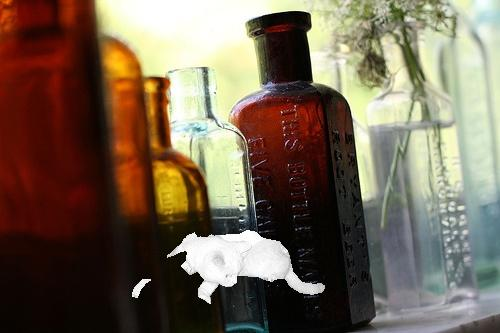tampered: (133, 231, 325, 304)
